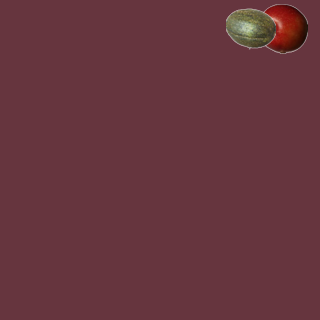Apple Braeburn: (257, 3, 307, 53)
Melon Piel de Sapo: (225, 3, 275, 53)
